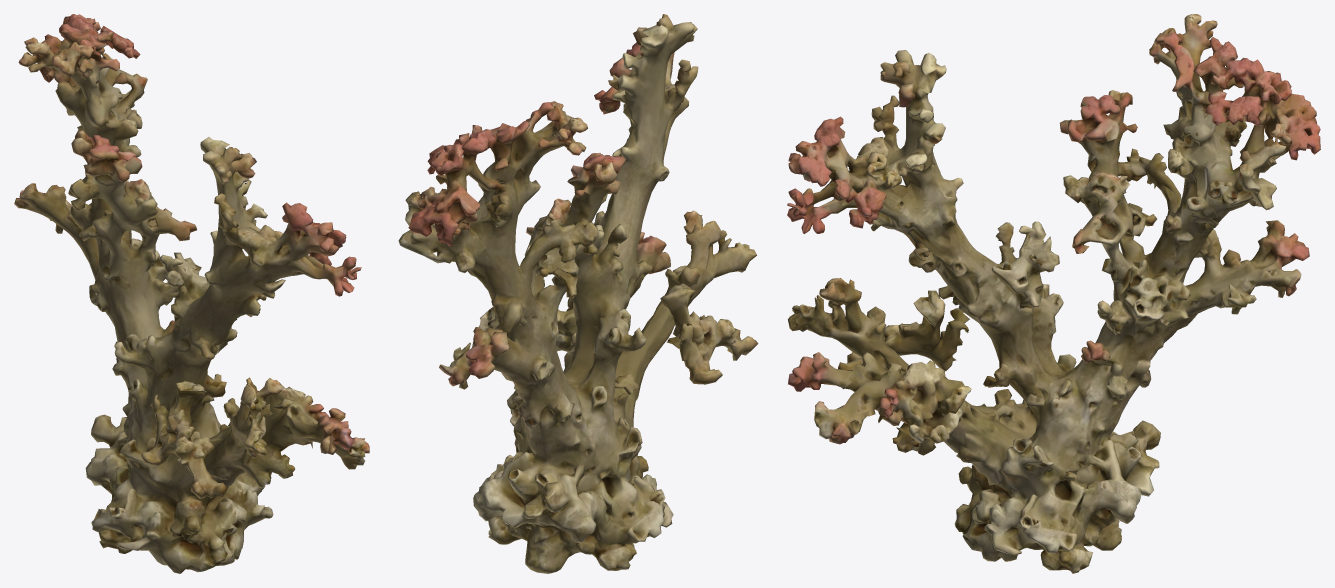
File: rock_h.glb
The picture shows the model from 3 angles, left to right: view 1: azimuth 30°, elevation 25°; view 2: azimuth 150°, elevation 25°; view 3: azimuth 270°, elevation 25°; orthographic projection. The views are drawn at different scales.
Parts seen in each view (by area): view 1: tripo_node_f885aeb6-28e9-449e-99ae-504233f27d3a; view 2: tripo_node_f885aeb6-28e9-449e-99ae-504233f27d3a; view 3: tripo_node_f885aeb6-28e9-449e-99ae-504233f27d3a.
Boxes of the visible parts, <box> form: tripo_node_f885aeb6-28e9-449e-99ae-504233f27d3a: <box>14,14,369,573</box>; tripo_node_f885aeb6-28e9-449e-99ae-504233f27d3a: <box>398,14,758,573</box>; tripo_node_f885aeb6-28e9-449e-99ae-504233f27d3a: <box>787,14,1320,573</box>.
Bounding box in the file's own units: 0.394 × 1 × 0.9743.
1 material, 1 textured.
